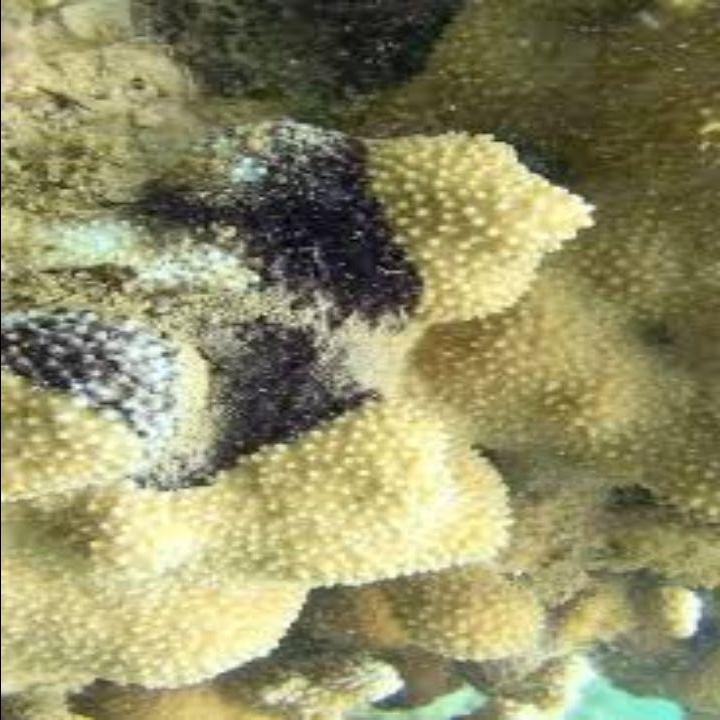Band disease: (134, 66, 467, 347), (0, 310, 372, 499)
